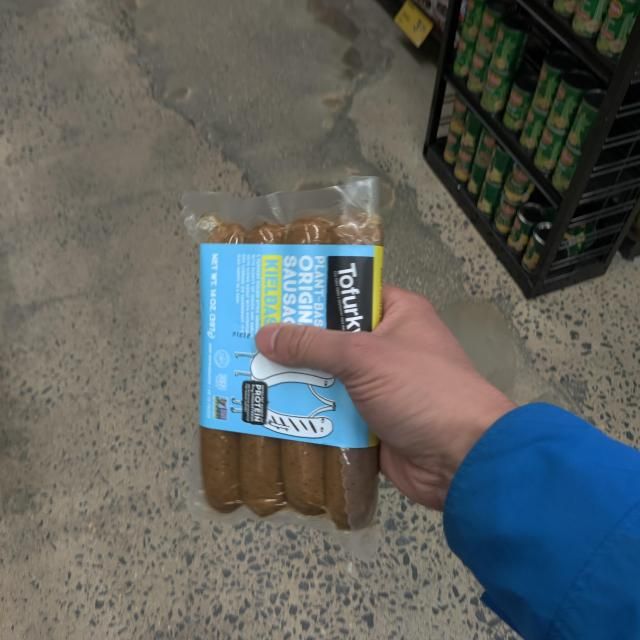Meat: (180, 171, 402, 537)
